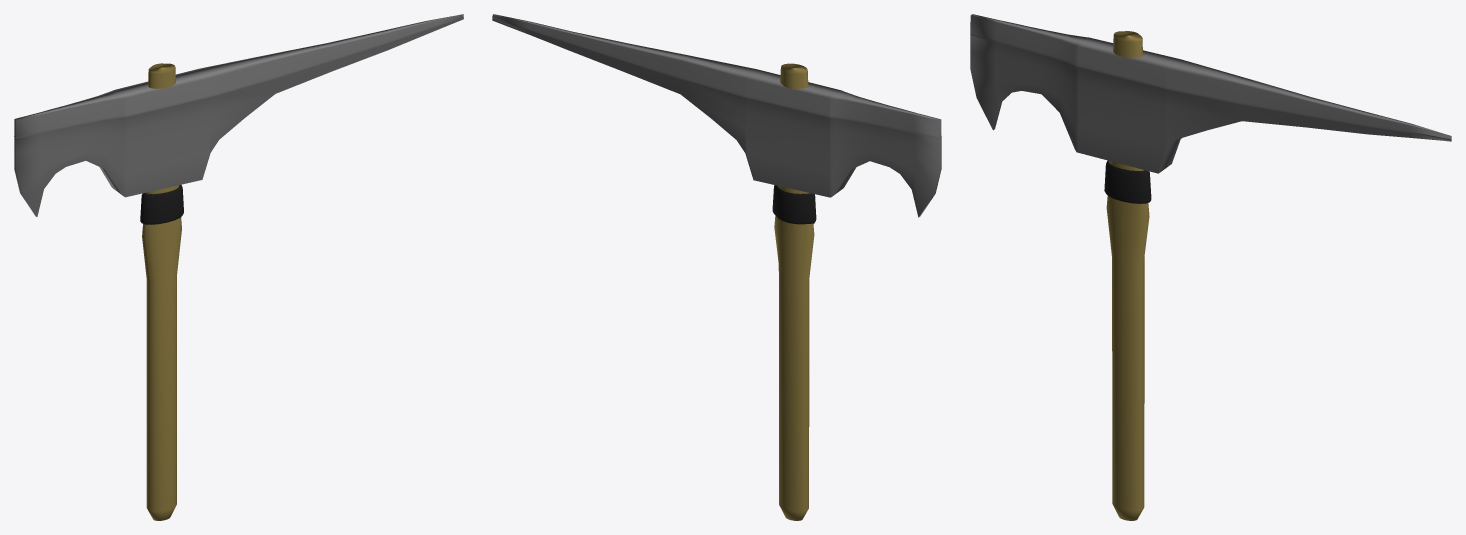
The model's file is Pick2.fbx.
3 renders of one model, left to right at view 1: azimuth 30°, elevation 25°; view 2: azimuth 150°, elevation 25°; view 3: azimuth 330°, elevation 25°, orthographic. The views are drawn at different scales.
Visible parts, largest first — view 1: Pick; view 2: Pick; view 3: Pick.
Boxes of the visible parts, x1,y1,x2,y2 form: Pick: (14,14,463,520); Pick: (492,14,941,520); Pick: (970,14,1451,520).
Bounding box in the file's own units: 61.65 × 59.12 × 3.65.
